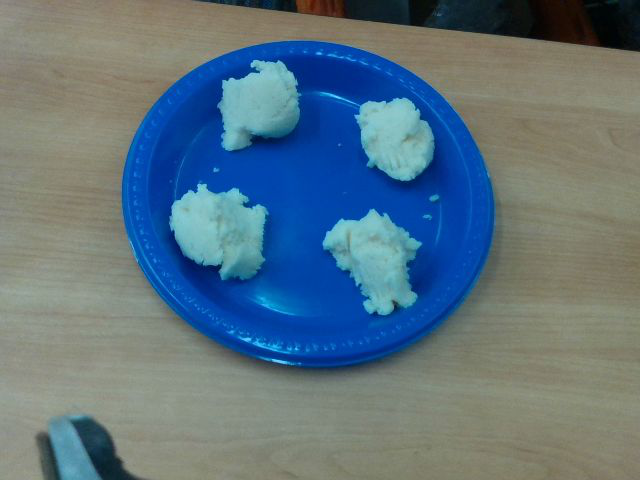mashed_potato: (322, 209, 421, 314), (169, 184, 268, 279), (216, 59, 300, 150), (355, 97, 436, 181)
